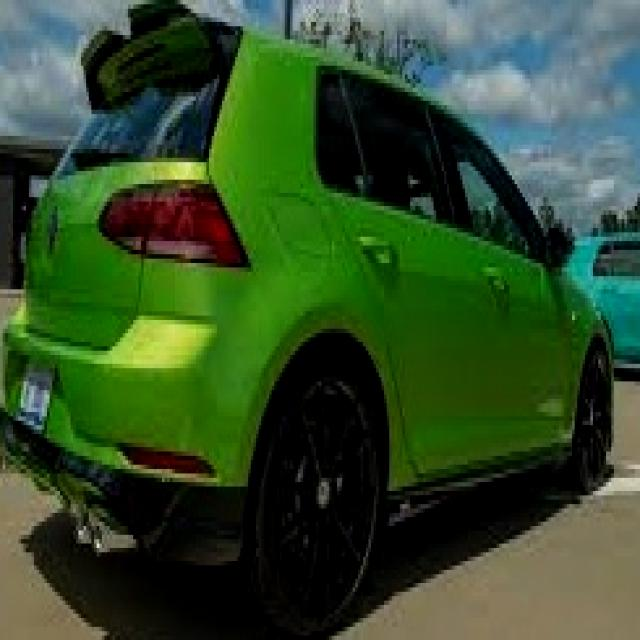green: (7, 4, 640, 568)
